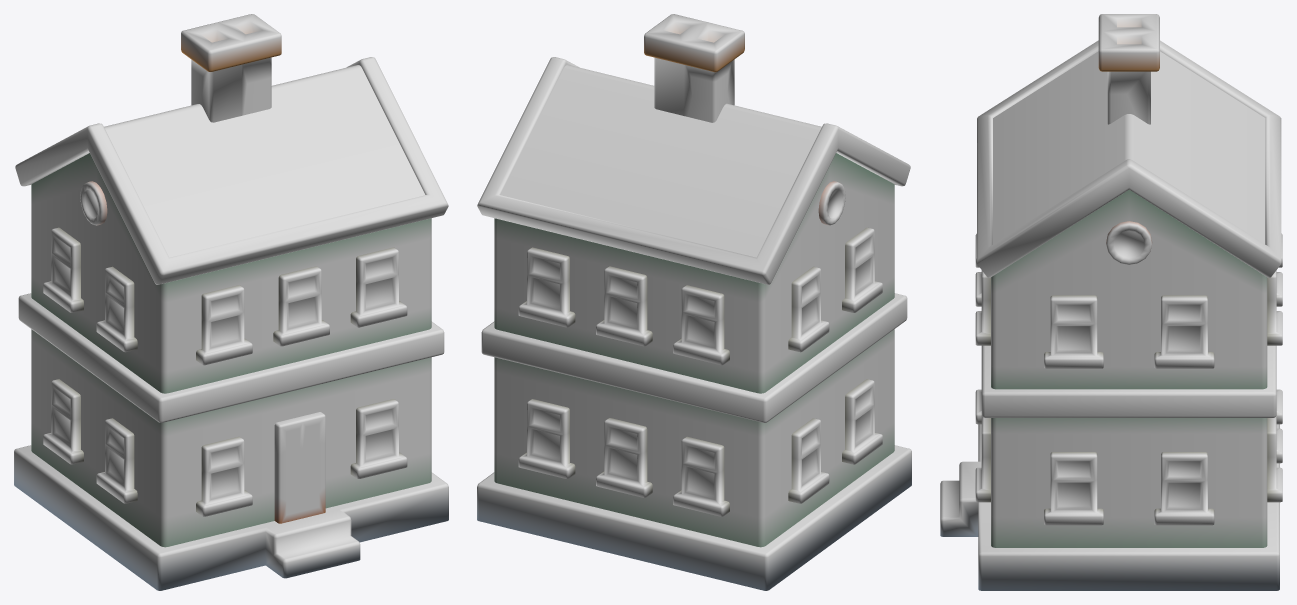
Rendered from Building_043.fbx.
3 renders of one model, left to right at view 1: azimuth 30°, elevation 25°; view 2: azimuth 150°, elevation 25°; view 3: azimuth 270°, elevation 25°, orthographic. The views are drawn at different scales.
Visible parts, largest first — view 1: Building_043; view 2: Building_043; view 3: Building_043.
Part boxes in pixels (bbox=[...]): Building_043: bbox=[14, 14, 448, 590]; Building_043: bbox=[477, 14, 911, 590]; Building_043: bbox=[940, 14, 1282, 590].
Size of the model in its own units: 766 by 743 by 1164.
